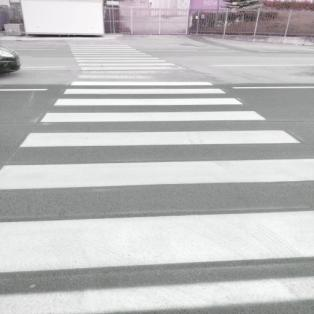Paso de Cebra: (10, 109, 307, 152), (59, 80, 234, 96)
